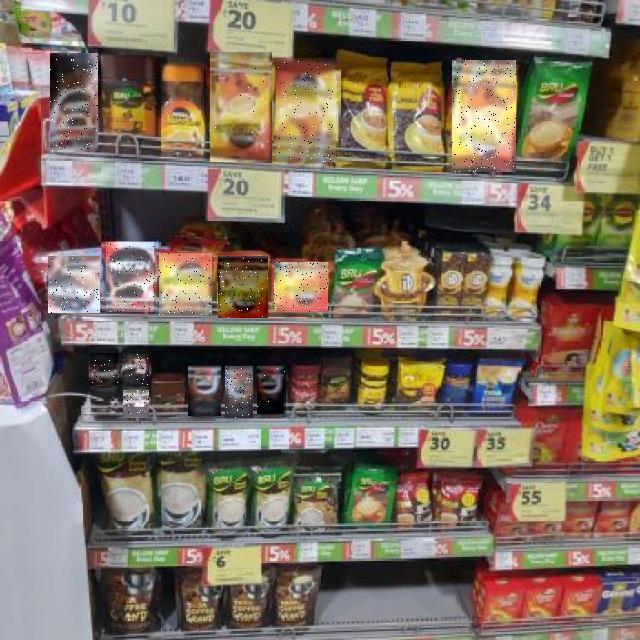Coffee: (452, 60, 516, 172), (210, 53, 272, 163), (276, 58, 336, 162), (50, 54, 98, 152), (161, 63, 204, 159), (106, 242, 154, 312), (159, 253, 212, 315), (218, 256, 268, 318), (48, 256, 100, 313), (274, 262, 328, 312), (188, 366, 221, 416), (225, 367, 253, 419), (258, 366, 288, 414), (90, 353, 118, 385), (90, 389, 119, 419), (122, 354, 149, 386), (123, 390, 149, 418)
